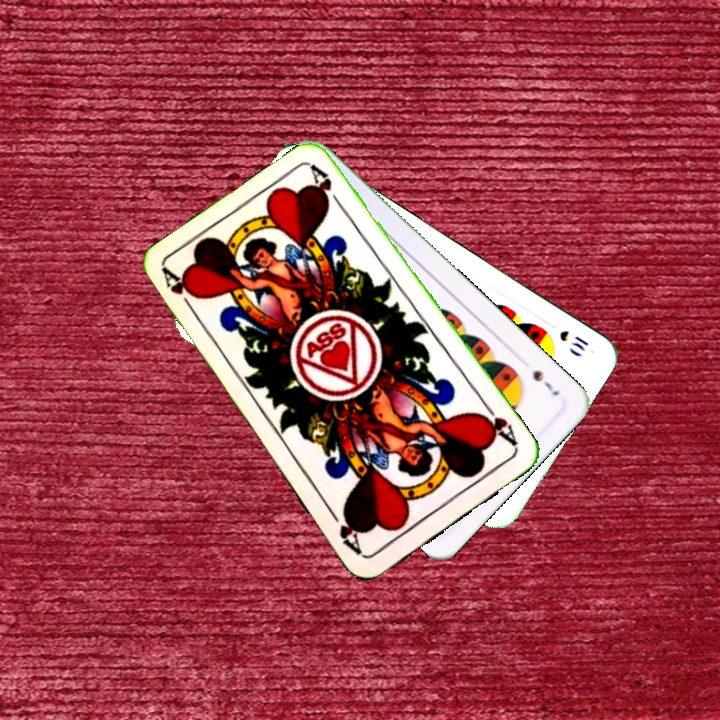HA: (474, 399, 521, 450), (159, 265, 201, 318)
S10: (555, 326, 591, 354)
S7: (529, 366, 562, 399)
